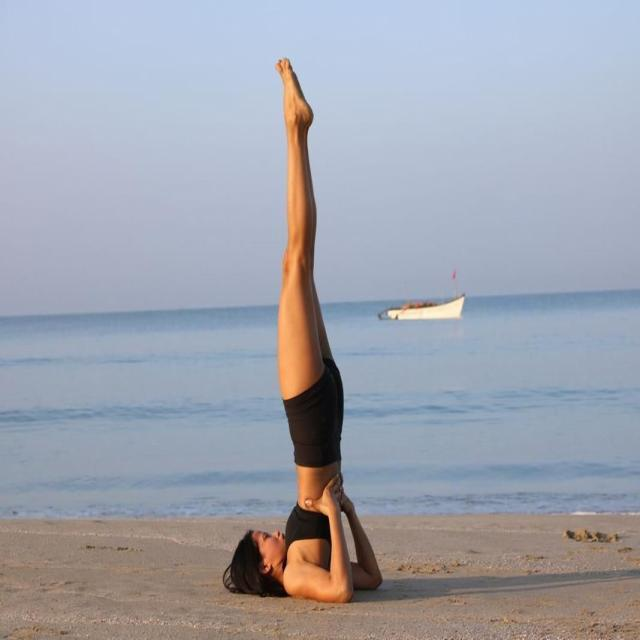yoga-pose shoulderstand: (225, 51, 394, 608)
